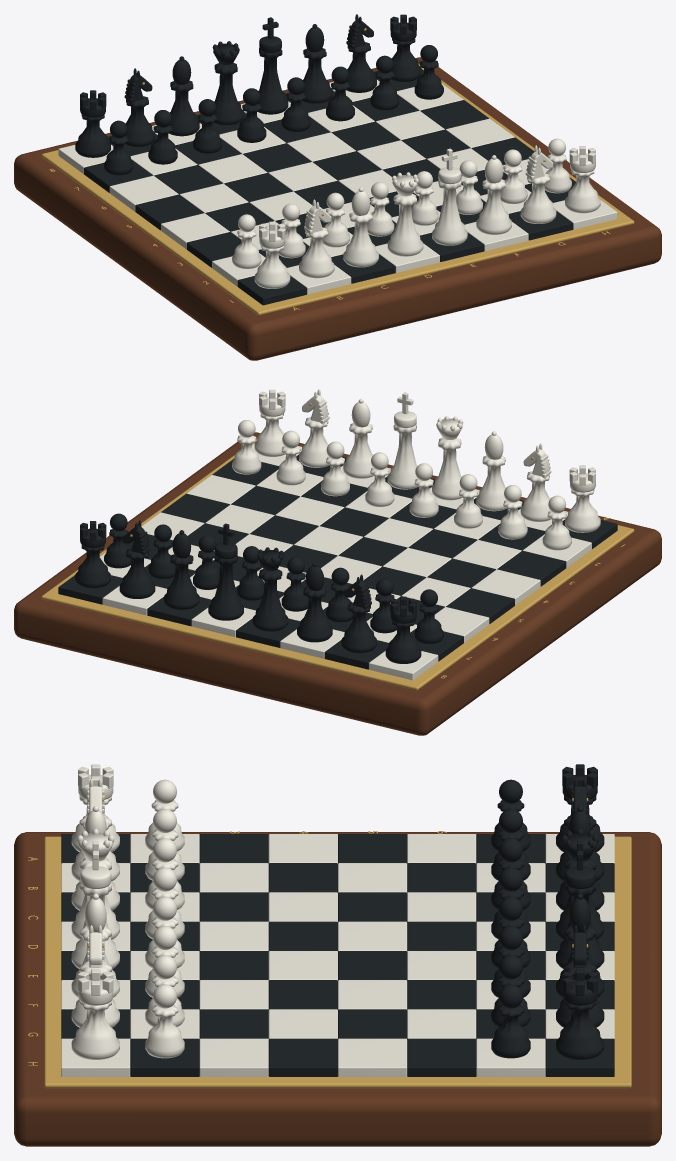
The model's file is Chess.glb.
3 renders of one model, top to bottom at view 1: azimuth 30°, elevation 25°; view 2: azimuth 150°, elevation 25°; view 3: azimuth 270°, elevation 25°, orthographic. The views are drawn at different scales.
Parts seen in each view (by area): view 1: Walnut board, Brass border, K fluted body, Q fluted body, Square_a6, Square_a4, Square_a5, K fluted body.001, Q fluted body.001, B fluted body, B fluted body.001, B fluted body.003 (+65 smaller); view 2: Walnut board, Brass border, K fluted body.001, Q fluted body.001, Square_a3, Square_a4, Square_a5, K fluted body, Q fluted body, B fluted body.002, B fluted body.003, B fluted body.001 (+65 smaller); view 3: Walnut board, Brass border, Square_h3, Square_h6, Square_h4, Square_h5, Square_c4, Square_c5, Square_g4, Square_g5, Square_b3, Square_b4 (+86 smaller).
Boxes of the visible parts, bbox=[...] form: Walnut board: bbox=[14, 57, 661, 360]; Brass border: bbox=[41, 63, 634, 315]; K fluted body: bbox=[432, 179, 467, 245]; Q fluted body: bbox=[387, 194, 423, 256]; Square_a6: bbox=[109, 175, 178, 211]; Square_a4: bbox=[161, 213, 229, 248]; Square_a5: bbox=[135, 194, 203, 230]; K fluted body.001: bbox=[258, 48, 288, 114]; Q fluted body.001: bbox=[213, 62, 243, 125]; B fluted body: bbox=[343, 211, 378, 267]; B fluted body.001: bbox=[476, 179, 511, 234]; B fluted body.003: bbox=[302, 48, 332, 103]; Walnut board: bbox=[14, 432, 661, 735]; Brass border: bbox=[41, 438, 634, 690]; K fluted body.001: bbox=[208, 554, 243, 620]; Q fluted body.001: bbox=[252, 569, 288, 631]; Square_a3: bbox=[497, 550, 566, 586]; Square_a4: bbox=[472, 569, 540, 605]; Square_a5: bbox=[446, 588, 514, 623]; K fluted body: bbox=[387, 423, 417, 489]; Q fluted body: bbox=[432, 437, 462, 500]; B fluted body.002: bbox=[297, 586, 332, 642]; B fluted body.003: bbox=[164, 554, 199, 609]; B fluted body.001: bbox=[343, 423, 373, 478]; Walnut board: bbox=[14, 832, 661, 1146]; Brass border: bbox=[44, 836, 631, 1088]; Square_h3: bbox=[199, 1038, 268, 1076]; Square_h6: bbox=[407, 1038, 476, 1076]; Square_h4: bbox=[268, 1038, 337, 1076]; Square_h5: bbox=[338, 1038, 407, 1076]; Square_c4: bbox=[268, 892, 337, 922]; Square_c5: bbox=[338, 892, 407, 922]; Square_g4: bbox=[268, 1009, 337, 1039]; Square_g5: bbox=[338, 1009, 407, 1039]; Square_b3: bbox=[199, 863, 268, 892]; Square_b4: bbox=[268, 863, 337, 892].
Bounding box in the file's own units: 0.59 × 0.1874 × 0.59.
